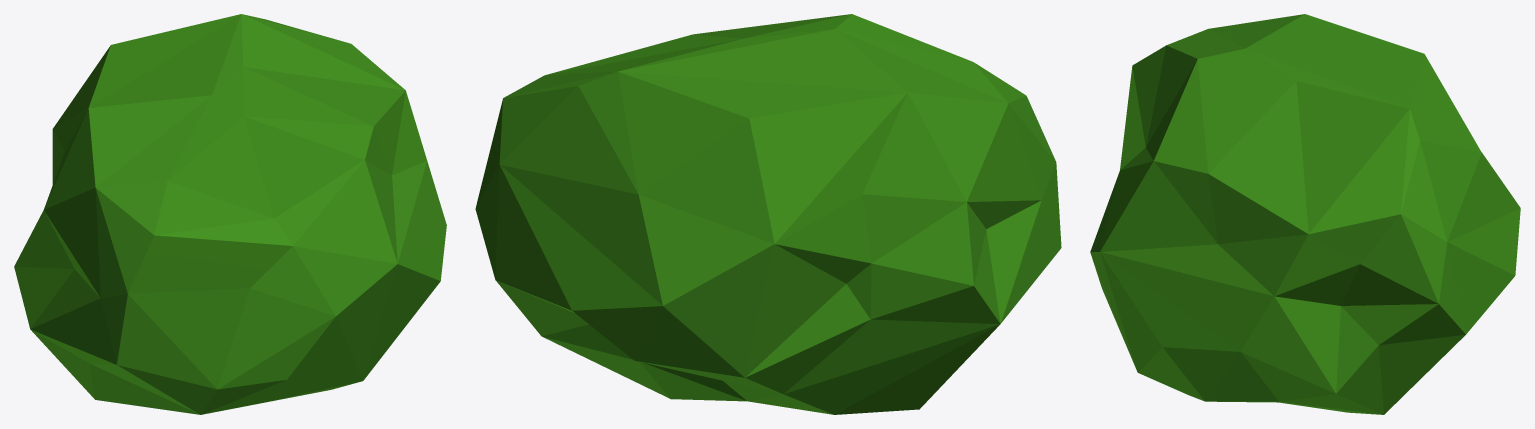
The model's file is BushA.fbx.
The picture shows the model from 3 angles, left to right: view 1: azimuth 30°, elevation 25°; view 2: azimuth 150°, elevation 25°; view 3: azimuth 270°, elevation 25°; orthographic projection. The views are drawn at different scales.
Visible parts, largest first — view 1: bushA_geo; view 2: bushA_geo; view 3: bushA_geo.
Part boxes in pixels (x1=…): bushA_geo: x1=14, y1=14, x2=446, y2=414; bushA_geo: x1=475, y1=14, x2=1061, y2=414; bushA_geo: x1=1090, y1=14, x2=1520, y2=414.
Bounding box in the file's own units: 96.69 × 72.81 × 89.55.
